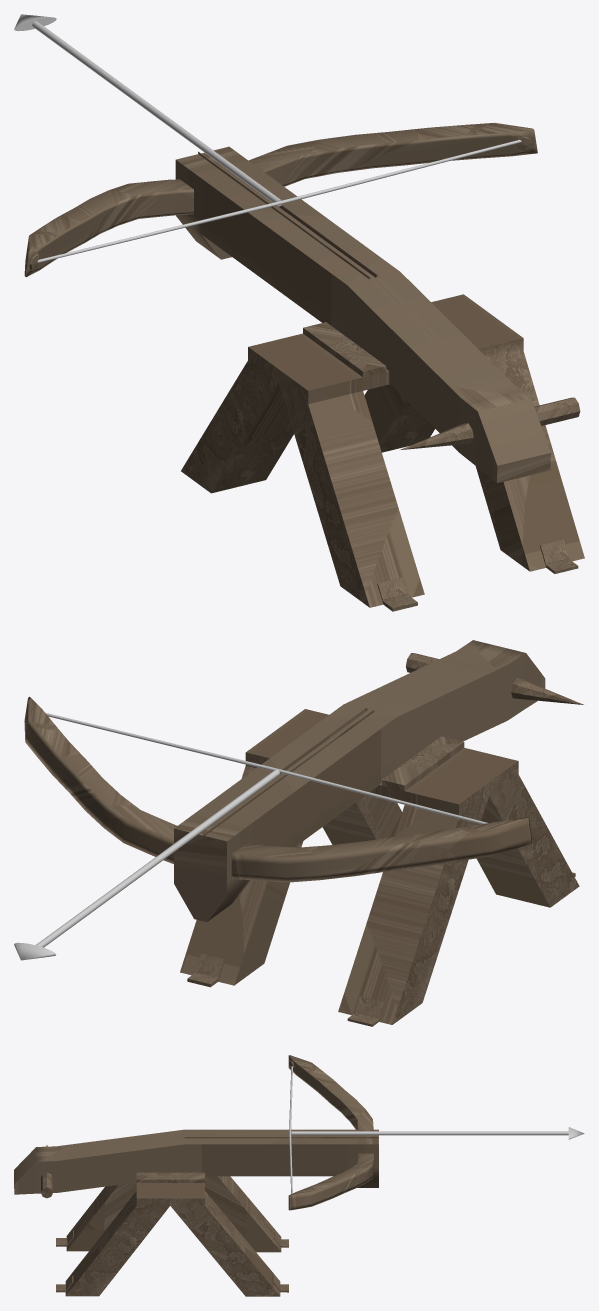
File: Crossbow_With_Textures.fbx
3 renders of one model, top to bottom at view 1: azimuth 30°, elevation 25°; view 2: azimuth 150°, elevation 25°; view 3: azimuth 270°, elevation 25°, orthographic. The views are drawn at different scales.
Parts seen in each view (by area): view 1: polySurface2, polySurface3, Arrow3, polySurface1; view 2: polySurface2, polySurface3, Arrow3, polySurface1; view 3: polySurface2, polySurface3, Arrow3, polySurface1.
Part boxes in pixels (left/top/right/bottom): polySurface2: left=24, top=122, right=580, bottom=483; polySurface3: left=181, top=294, right=584, bottom=611; Arrow3: left=14, top=14, right=281, bottom=206; polySurface1: left=37, top=140, right=521, bottom=262; polySurface2: left=24, top=640, right=583, bottom=921; polySurface3: left=180, top=709, right=579, bottom=1026; Arrow3: left=14, top=769, right=279, bottom=960; polySurface1: left=45, top=712, right=487, bottom=824; polySurface2: left=14, top=1055, right=378, bottom=1210; polySurface3: left=56, top=1172, right=288, bottom=1296; Arrow3: left=291, top=1127, right=584, bottom=1139; polySurface1: left=289, top=1066, right=292, bottom=1193.
Bounding box in the file's own units: 9.56 × 4.47 × 16.27.
